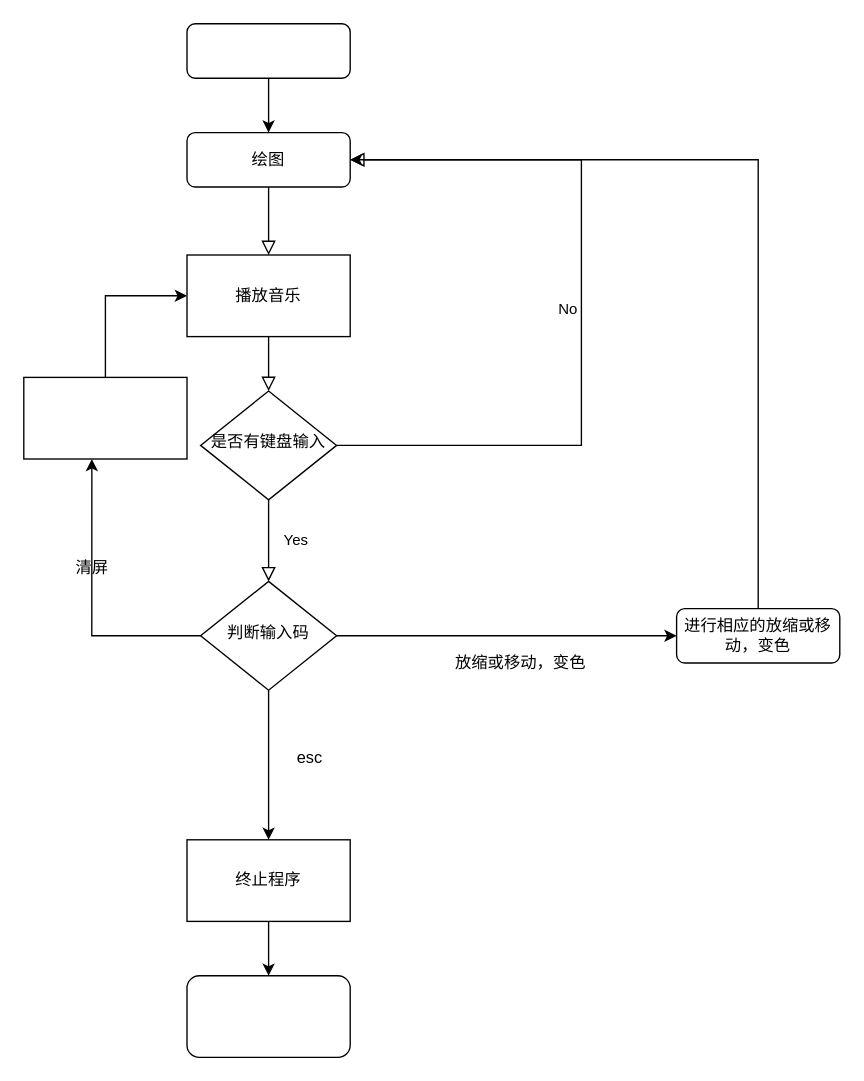
The diagram is 864 pixels wide and 1081 high, and some of its shapes have lost their labels. Each missing label, with the centre of its shape:
开始: [268,50]
清屏程序: [104,417]
结束: [268,1015]
